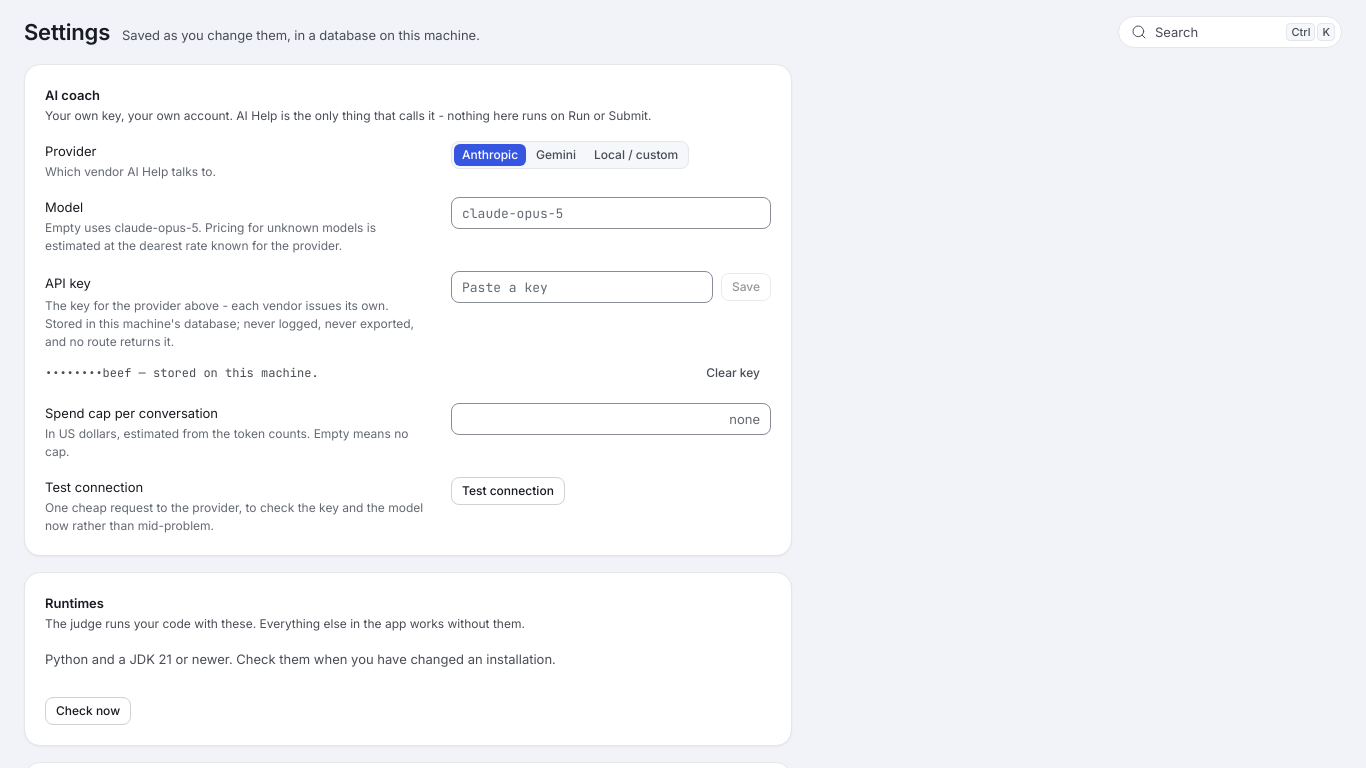
it: Settings, coach section › reports a failed connection test honestly
Click the button "Test connection" at [508, 491], box [451, 477, 565, 505]
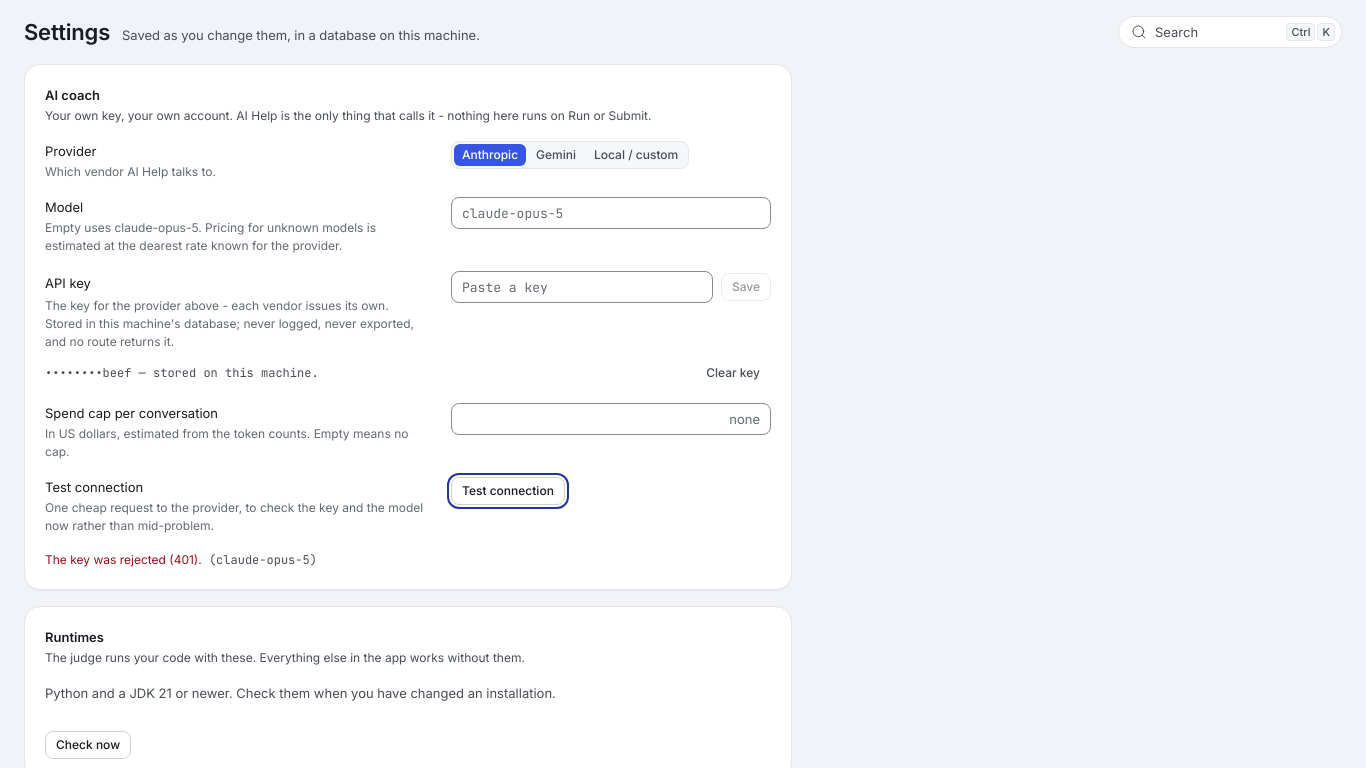
Check: the text "The key was rejected (401). (claude-opus-5)" is shown, box [45, 552, 317, 568]
